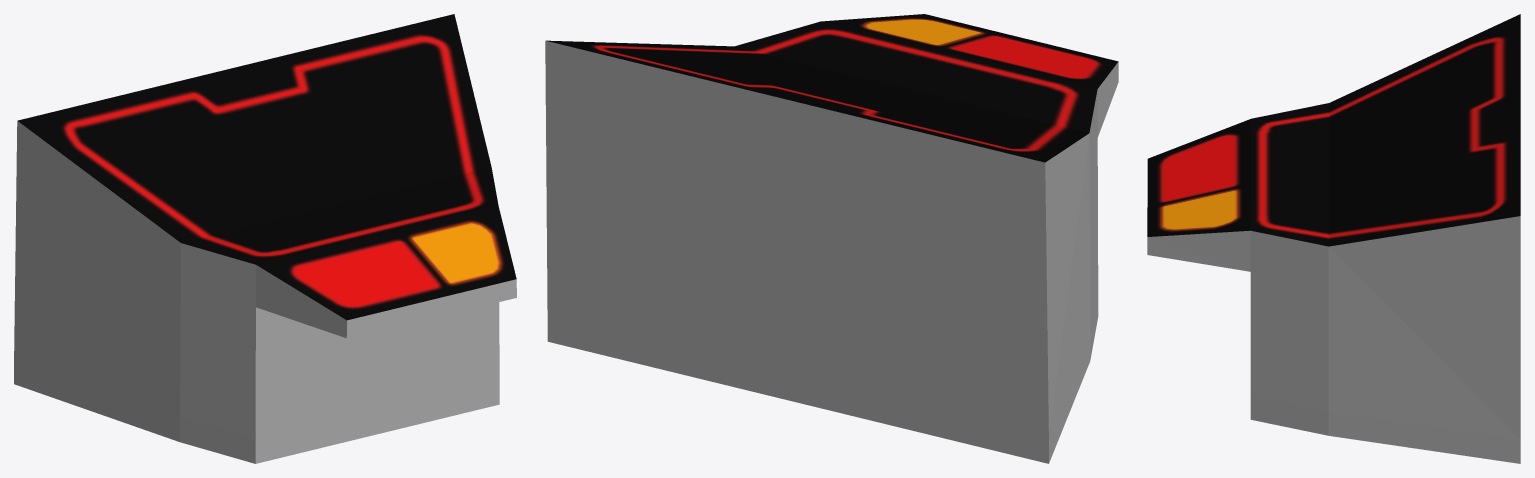
File: control_console_center.FBX
3 renders of one model, left to right at view 1: azimuth 30°, elevation 25°; view 2: azimuth 150°, elevation 25°; view 3: azimuth 270°, elevation 25°, orthographic. The views are drawn at different scales.
Visible parts, largest first — view 1: control_console_center; view 2: control_console_center; view 3: control_console_center.
Boxes of the visible parts, x1,y1,x2,y2 form: control_console_center: (14,14,516,463); control_console_center: (545,14,1118,463); control_console_center: (1147,14,1520,463).
Bounding box in the file's own units: 7938 × 4526 × 6152.
